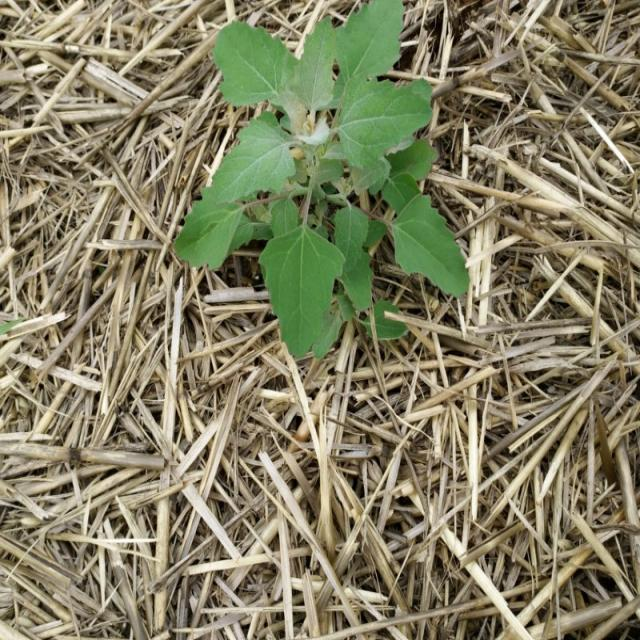ca: (172, 0, 472, 355)
